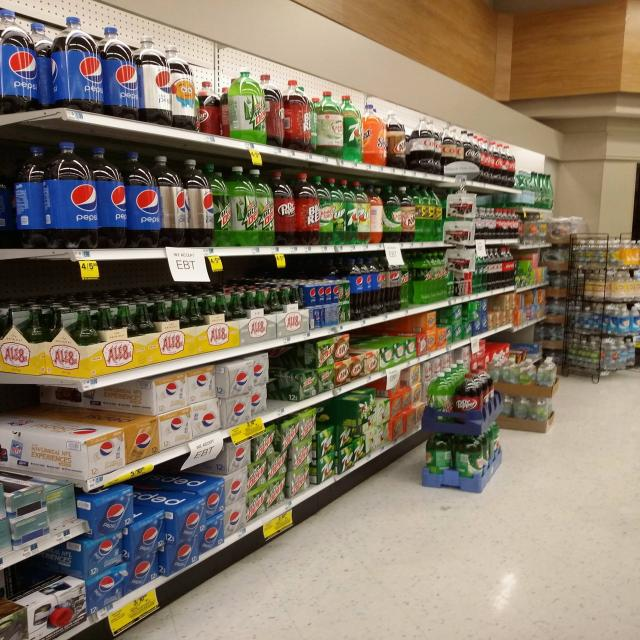empty: (268, 343, 306, 418)
